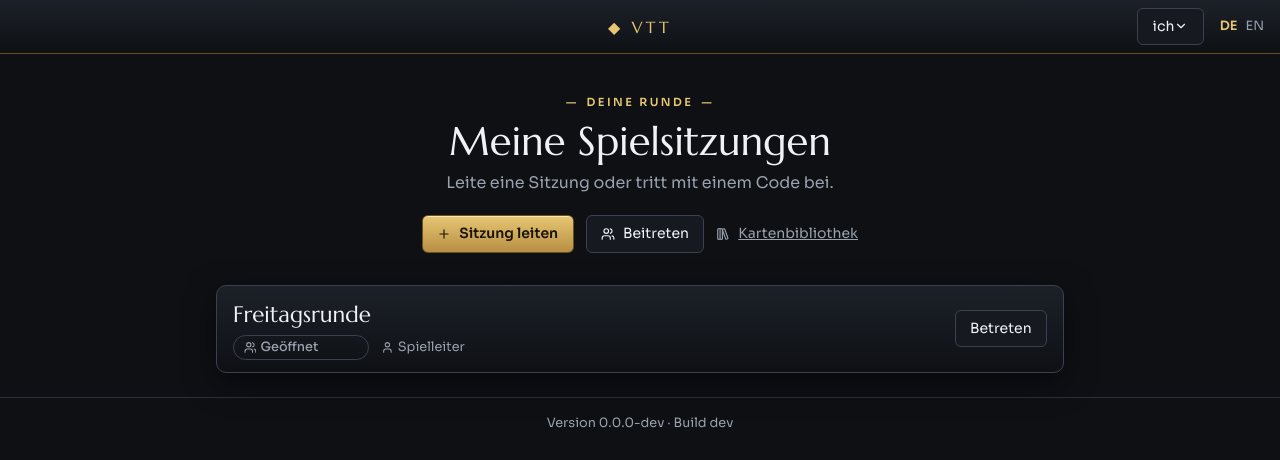
Test: Bereiche der Raumansicht › Server-Update erhält den aktiven Reiter
Check: the heading "Freitagsrunde" is shown, box [233,300,371,328]
Step 1. Click the button "Betreten" → x=1001, y=328, box [955,310,1047,347]
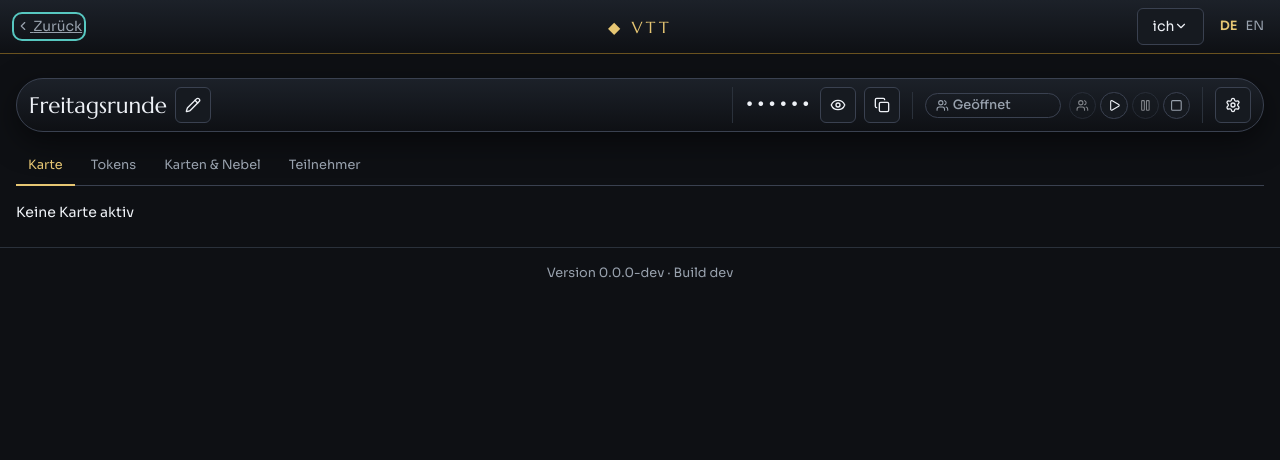
Check: the element named "Sitzung" is shown, box [16,78,1264,132]
Step 2. Click the tab "Tokens" → x=113, y=167, box [79,148,148,186]
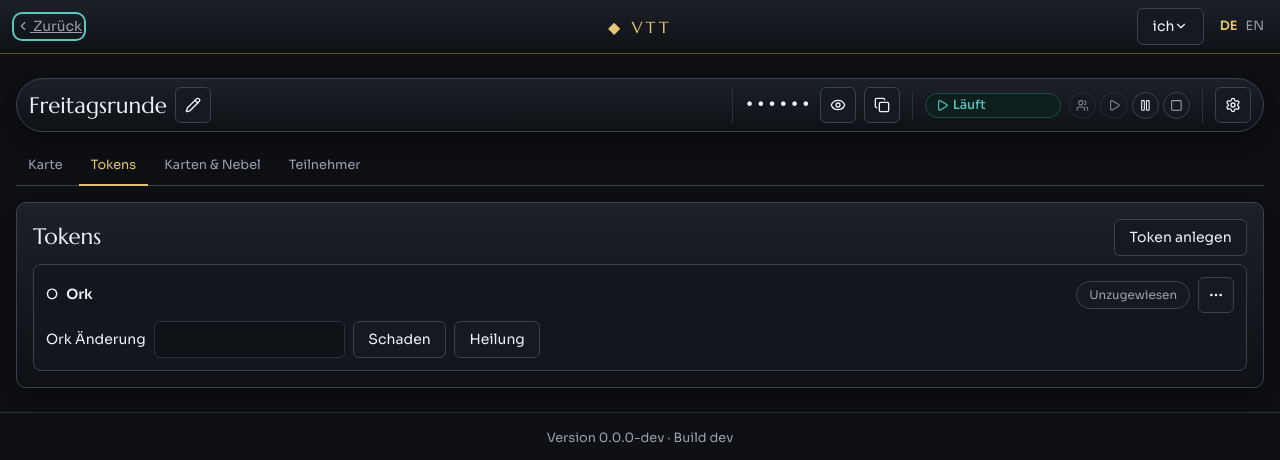
Check: the text "Ork" is shown, box [66,285,93,303]
